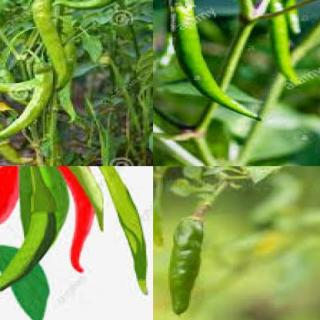green_chilli: (165, 0, 263, 125), (0, 207, 62, 300), (165, 222, 212, 313), (0, 62, 52, 144), (26, 0, 72, 91), (266, 0, 303, 88), (55, 13, 78, 122), (0, 124, 35, 165), (284, 0, 306, 35), (49, 0, 132, 9), (53, 154, 69, 165)
